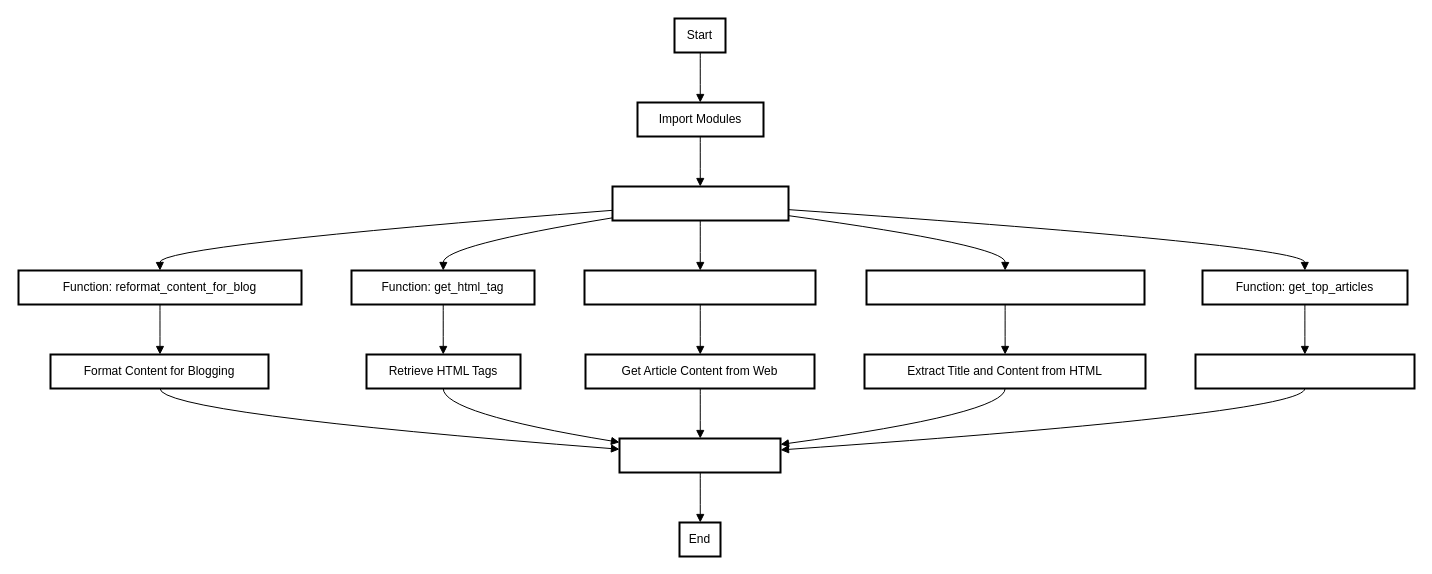
Some shapes in this 1432 by 574 pixel diagram are drawn without their labels. The centre of each missing label's shape, as x and y in pixels:
Function: extract_title_and_content: (x=1005, y=287)
Function: get_article_content: (x=699, y=287)
Get Top Articles for Blogging: (x=1304, y=371)
Global Variables Setup: (x=700, y=203)
Post Content to Blog: (x=699, y=455)
